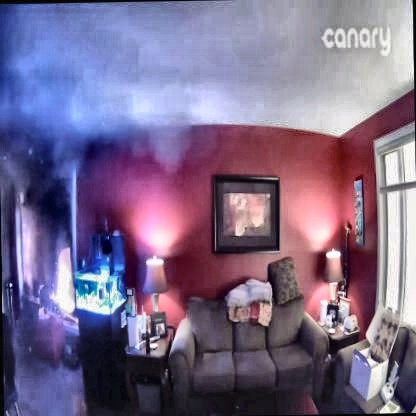smoke: (1, 3, 195, 172)
